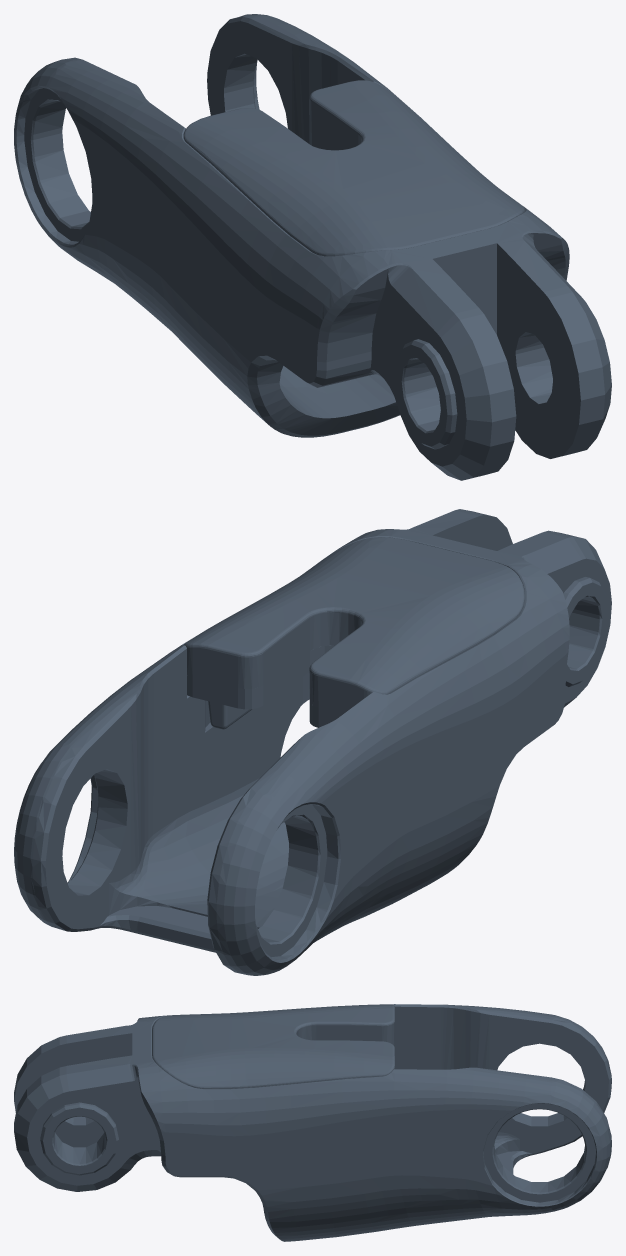
Rendered from L_little_prox.dae.
3 renders of one model, top to bottom at view 1: azimuth 30°, elevation 25°; view 2: azimuth 150°, elevation 25°; view 3: azimuth 270°, elevation 25°, orthographic. The views are drawn at different scales.
Parts seen in each view (by area): view 1: L_little_prox; view 2: L_little_prox; view 3: L_little_prox.
Part boxes in pixels (box(x1,y1,x2,y2)): L_little_prox: box(14, 14, 611, 480); L_little_prox: box(14, 509, 611, 975); L_little_prox: box(14, 1004, 611, 1241).
Size of the model in its own units: 0.0154 by 0.0455 by 0.0166.
